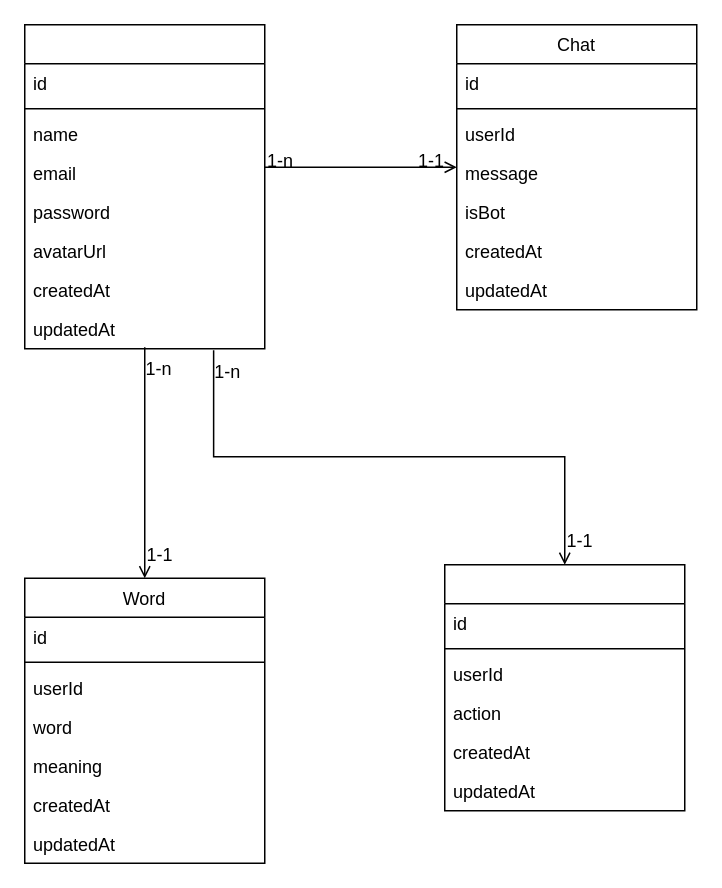
The diagram is 722 pixels wide and 888 high, and some of its shapes have lost their labels. Here are the shapes that lost their labels. From the top down, the box of each, then its label:
(23, 23, 265, 349): User
(443, 563, 685, 811): History
